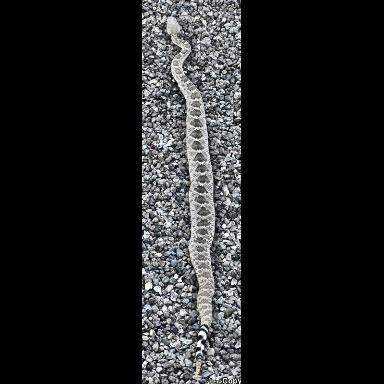snake: (169, 18, 216, 327)
